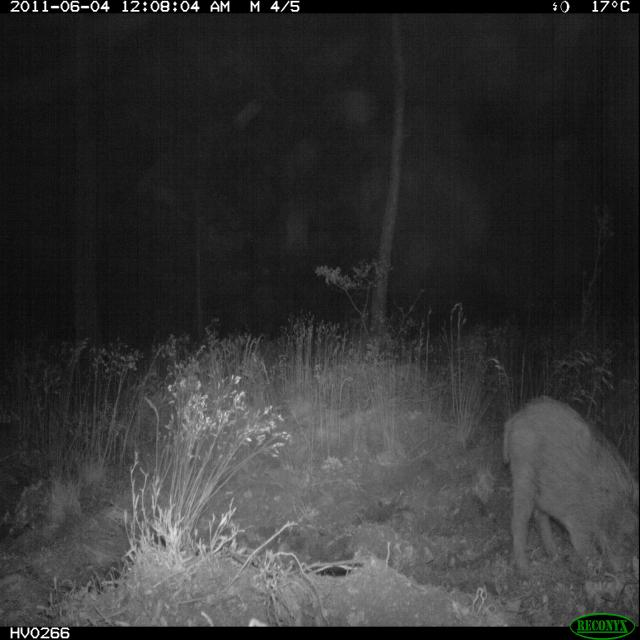boar: (476, 366, 640, 610)
